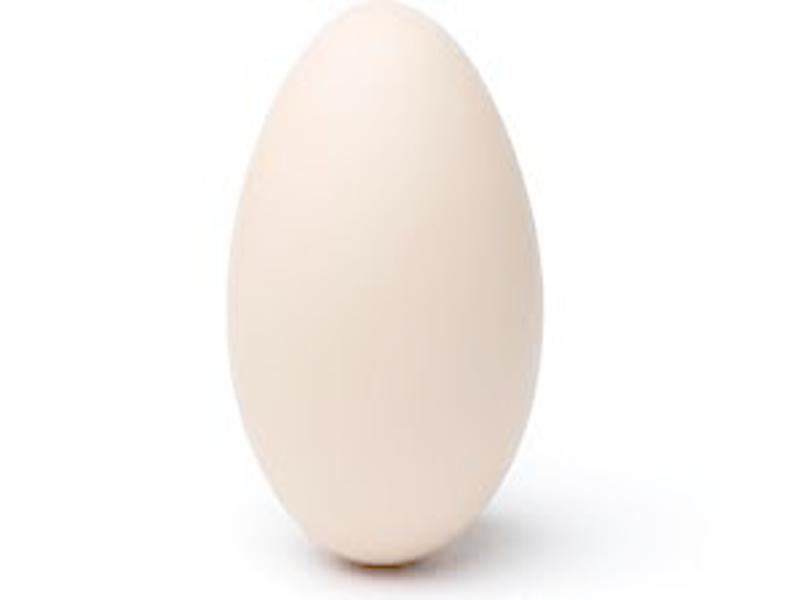Eggs: (229, 4, 542, 568)
